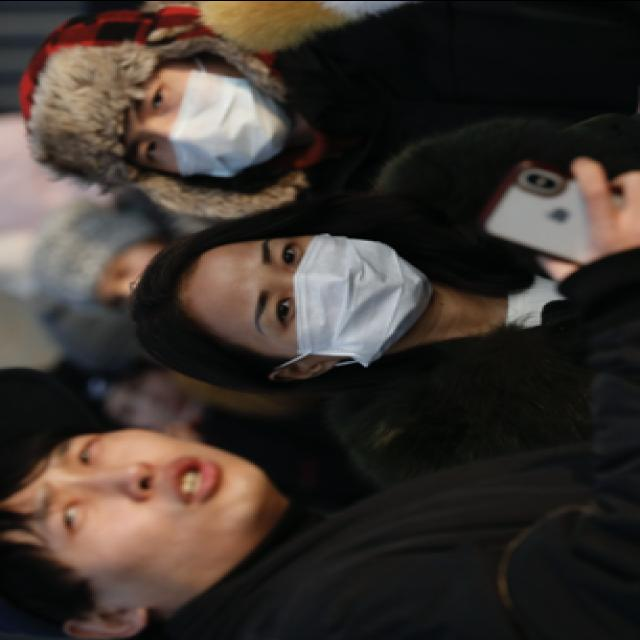with_mask: (241, 230, 435, 364), (123, 58, 284, 178)
without_mask: (32, 428, 280, 606)
